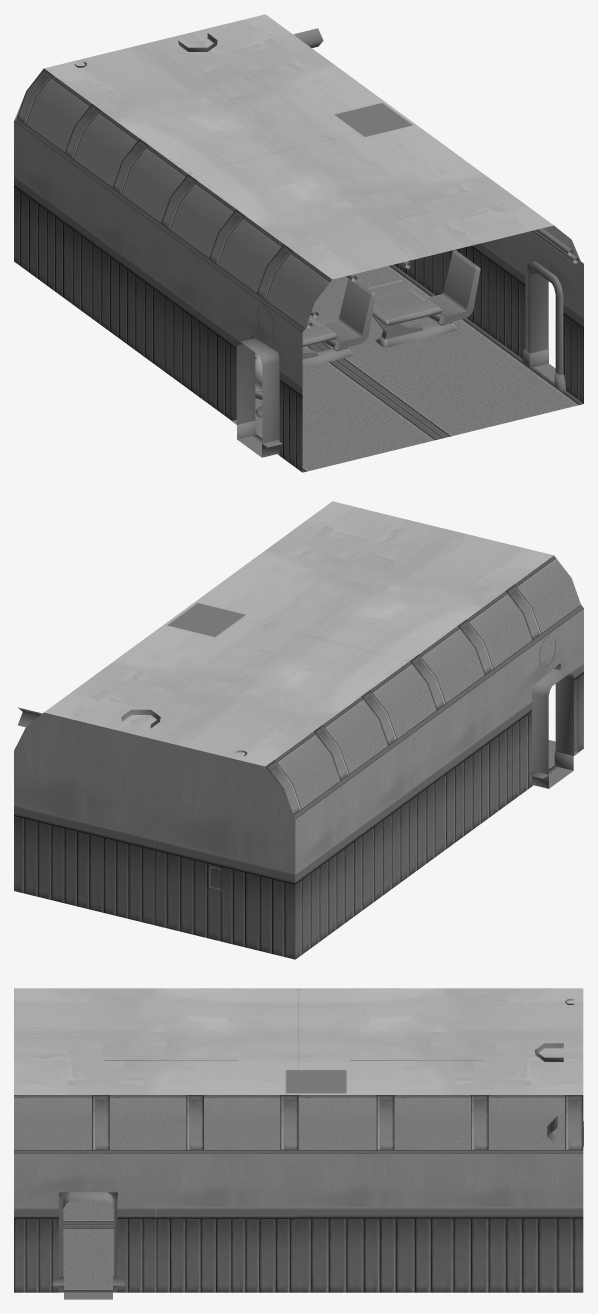
Rendered from MSH_Class_room_L3_R1_optimized.fbx.
3 renders of one model, top to bottom at view 1: azimuth 30°, elevation 25°; view 2: azimuth 150°, elevation 25°; view 3: azimuth 270°, elevation 25°, orthographic.
Parts seen in each view (by area): view 1: lightmap1, lightmap-1; view 2: lightmap1, lightmap-1; view 3: lightmap1, lightmap-1.
Part boxes in pixels (box(x1,y1,x2,y2)): lightmap1: box(14, 14, 583, 472); lightmap-1: box(236, 270, 555, 457); lightmap1: box(14, 501, 583, 959); lightmap-1: box(532, 669, 573, 788); lightmap1: box(14, 988, 583, 1292); lightmap-1: box(63, 1192, 113, 1299).
Size of the model in its own units: 10.3 by 6.02 by 16.54.
